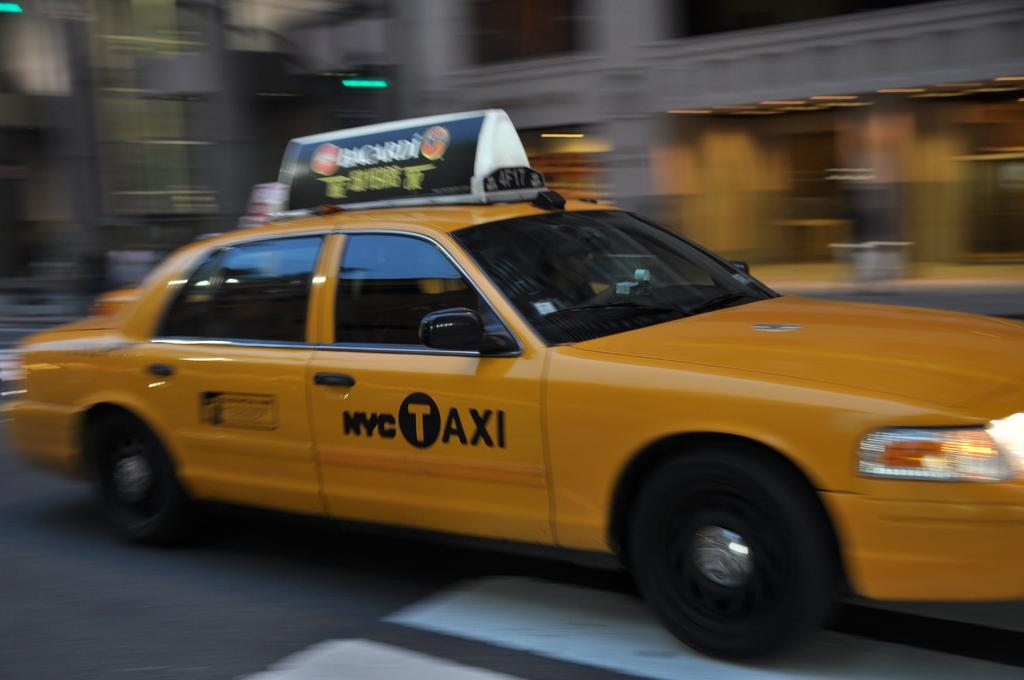taxi: (1, 109, 1024, 662)
